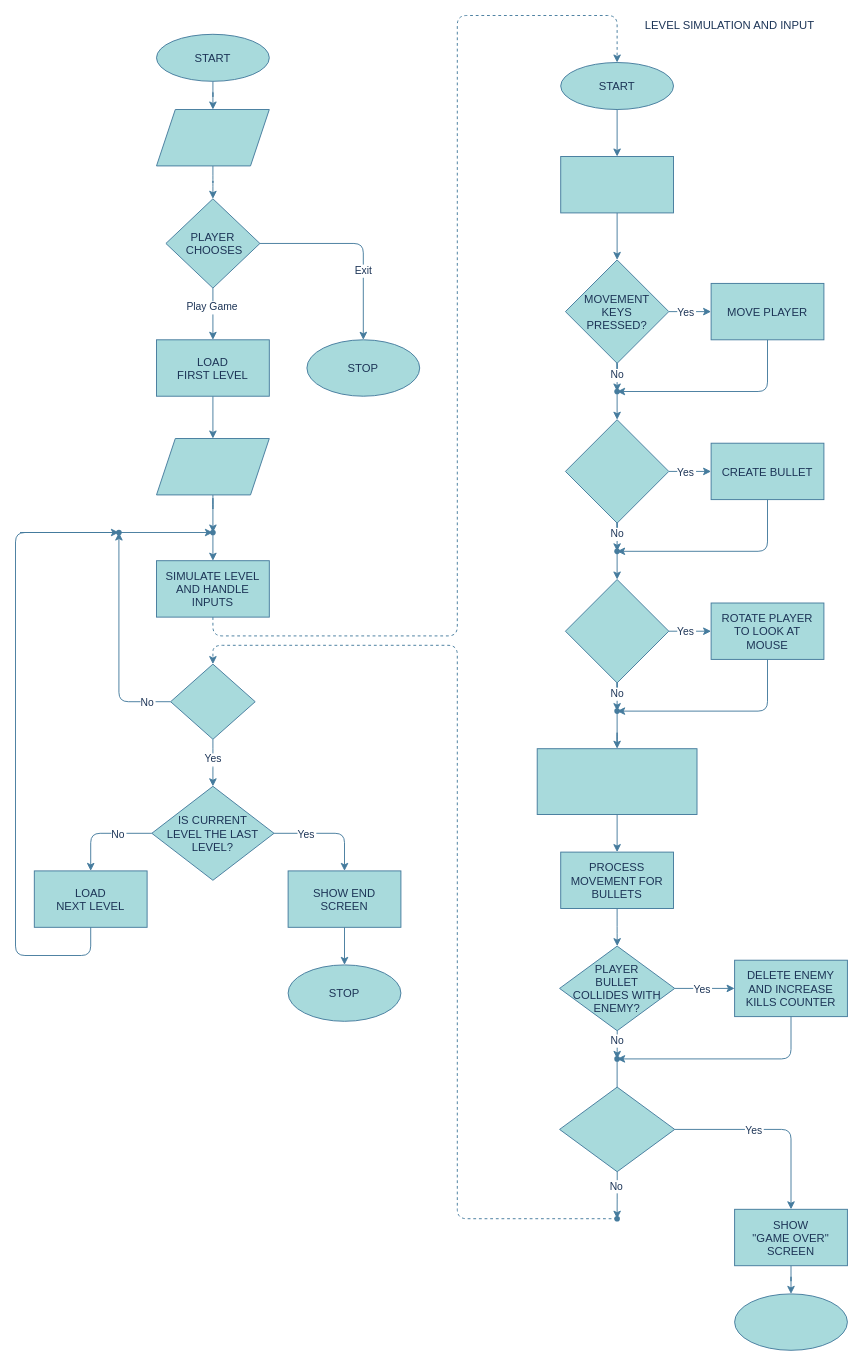
Some shapes in this 863 by 1366 pixel diagram are drawn without their labels. The shapes that lost their labels are listed below. From the top down, each one's box as (x1, y1, x2, y2) in pixels, then its label:
(156, 109, 269, 166): SHOW MAIN MENU
(560, 156, 674, 213): PROCESS ENEMY LOGIC
(156, 438, 269, 495): CHOOSE CHARACTER
(564, 419, 669, 523): LEFT MOUSE CLICKED?
(564, 579, 669, 683): MOUSE MOVED?
(170, 663, 255, 739): LEVEL FINISHED?
(536, 748, 697, 815): RESET PLAYER POSITION IF PLAYER IS IN INVALID LOCATION
(559, 1086, 675, 1172): ENEMY BULLET COLLIDES WITH PLAYER?
(734, 1293, 847, 1350): STOP PROGRAM
